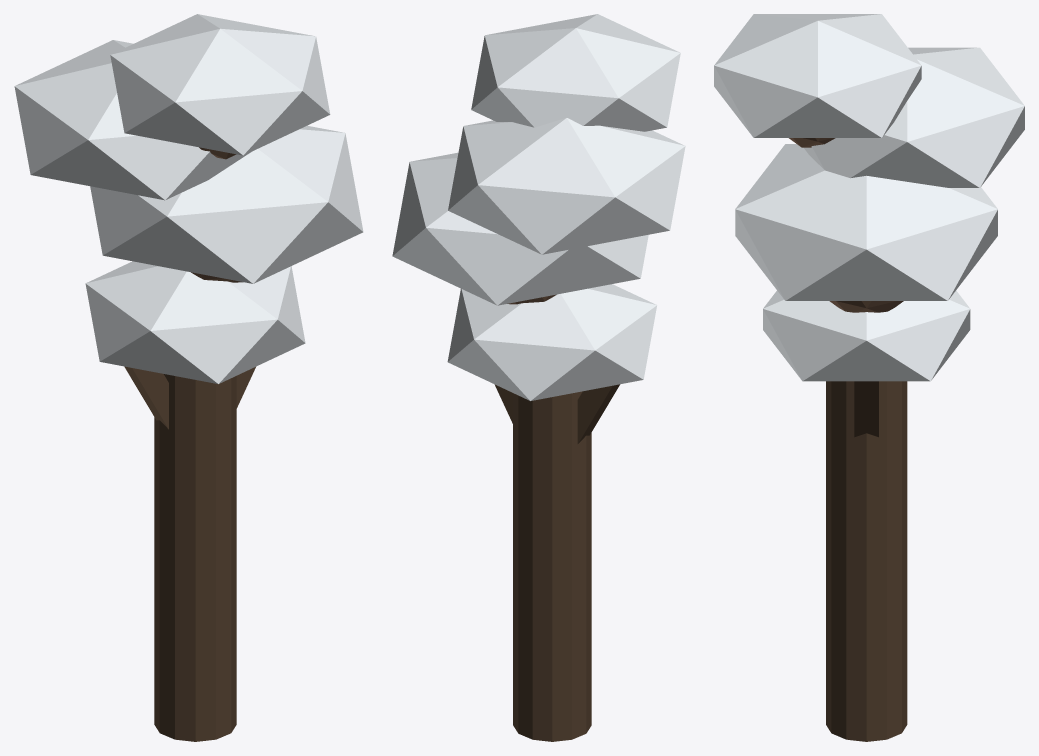
The model's file is oak_tree_winter.glb.
3 views of the same model, side by side, from view 1: azimuth 30°, elevation 25°; view 2: azimuth 150°, elevation 25°; view 3: azimuth 270°, elevation 25° (orthographic). The views are drawn at different scales.
Visible parts, largest first — view 1: OakTree_Winter; view 2: OakTree_Winter; view 3: OakTree_Winter.
Boxes of the visible parts, left/top/right/bottom form: OakTree_Winter: left=14, top=14, right=363, bottom=741; OakTree_Winter: left=392, top=14, right=685, bottom=741; OakTree_Winter: left=714, top=14, right=1024, bottom=741.
Size of the model in its own units: 0.412 by 0.955 by 0.3822.
